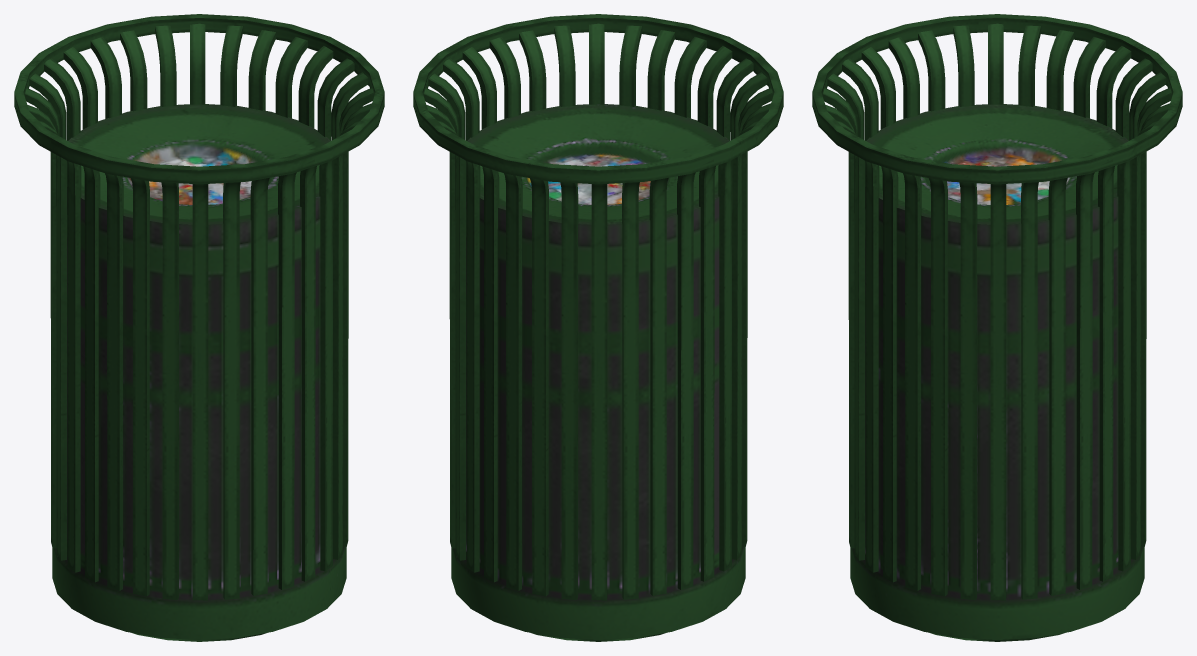
The model's file is MB_Urn_04.fbx.
3 views of the same model, side by side, from view 1: azimuth 30°, elevation 25°; view 2: azimuth 150°, elevation 25°; view 3: azimuth 270°, elevation 25° (orthographic).
Visible parts, largest first — view 1: MB_Urn_04_LOD0; view 2: MB_Urn_04_LOD0; view 3: MB_Urn_04_LOD0.
Part boxes in pixels (x1,y1,x2,y2): MB_Urn_04_LOD0: (14, 14, 384, 641); MB_Urn_04_LOD0: (413, 14, 783, 641); MB_Urn_04_LOD0: (812, 14, 1182, 641).
Size of what is drawn, in the model's own units: 50.81 by 75.32 by 50.81.
